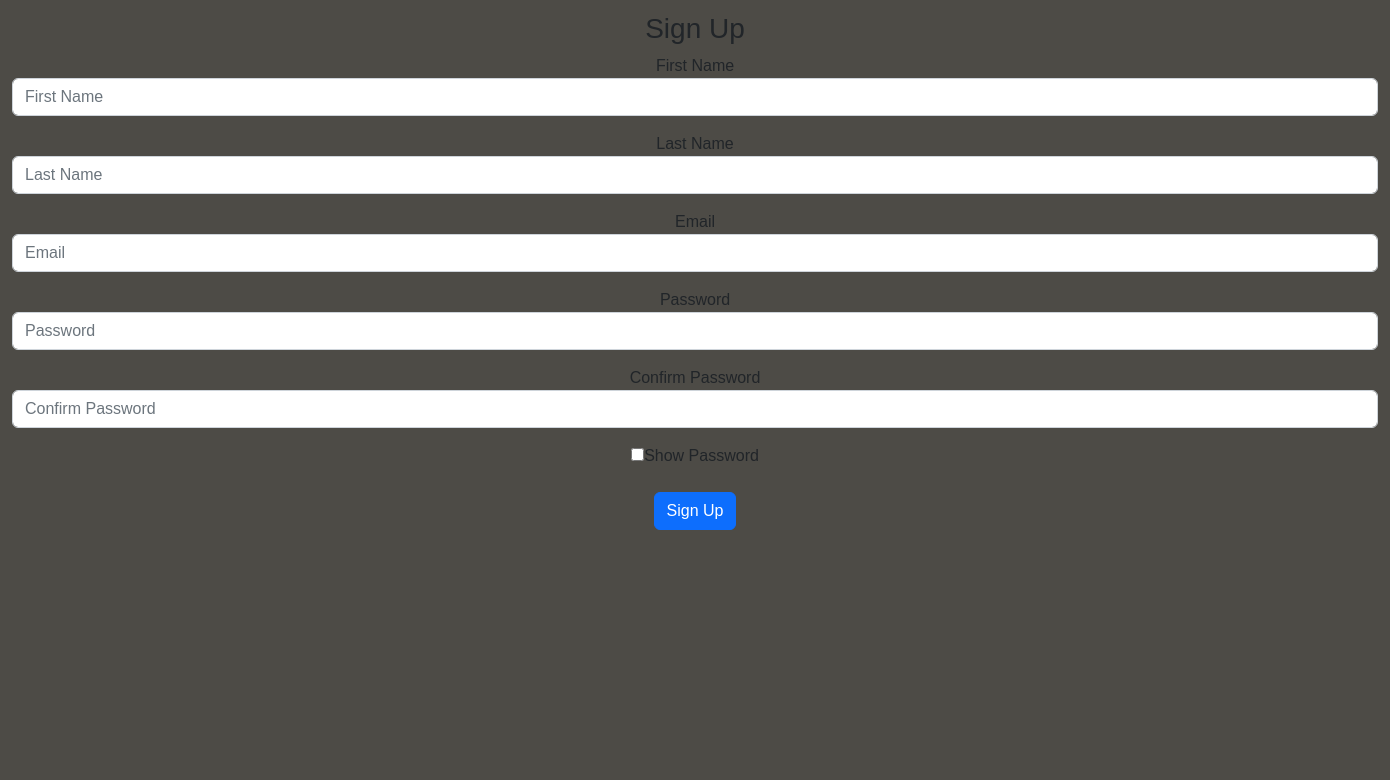
Test: RegisterCom.vue › shows an error message when a required field is empty
Step 1. Type "testName" into the field with placeholder "Last Name" → x=695, y=175, box [12,156,1378,194]
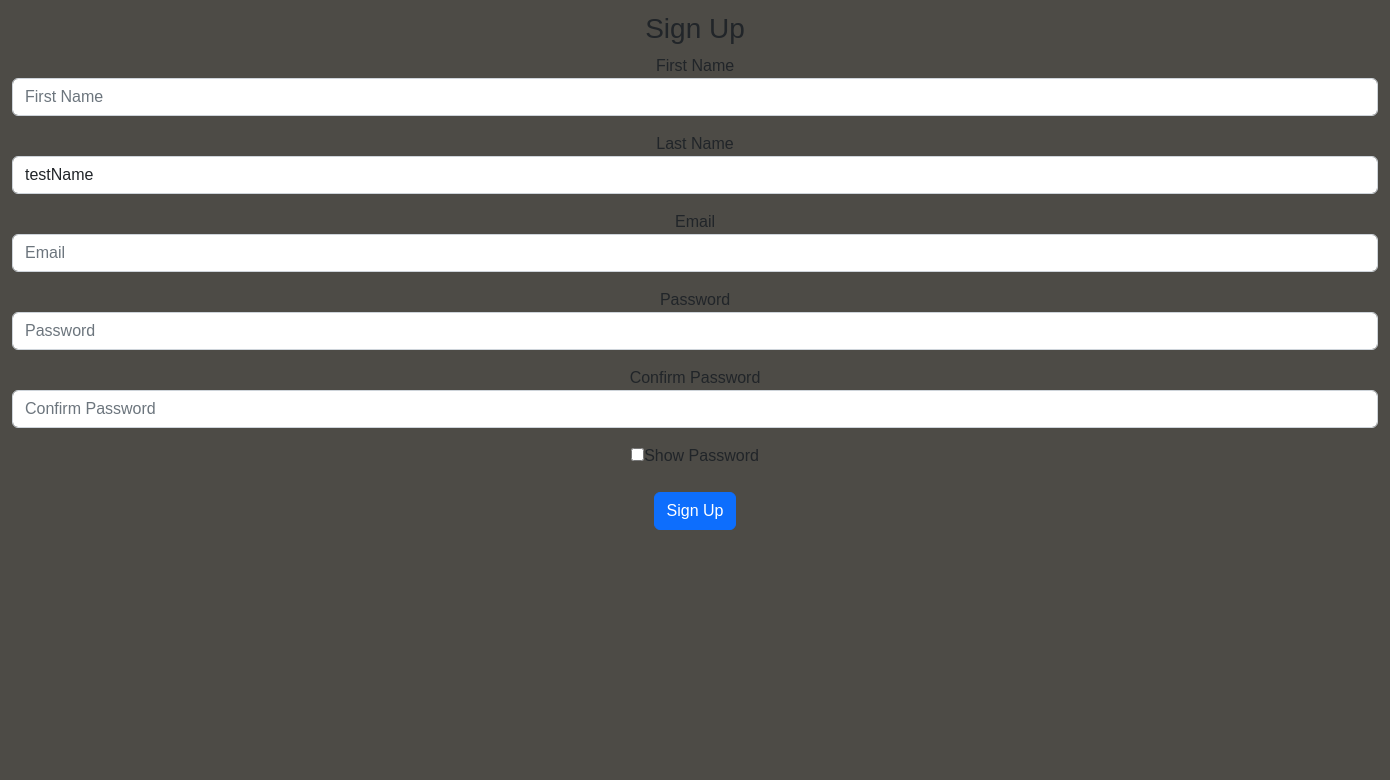
Step 2. Type "test@gmail.com" into the field with placeholder "Email" → x=695, y=253, box [12,234,1378,272]
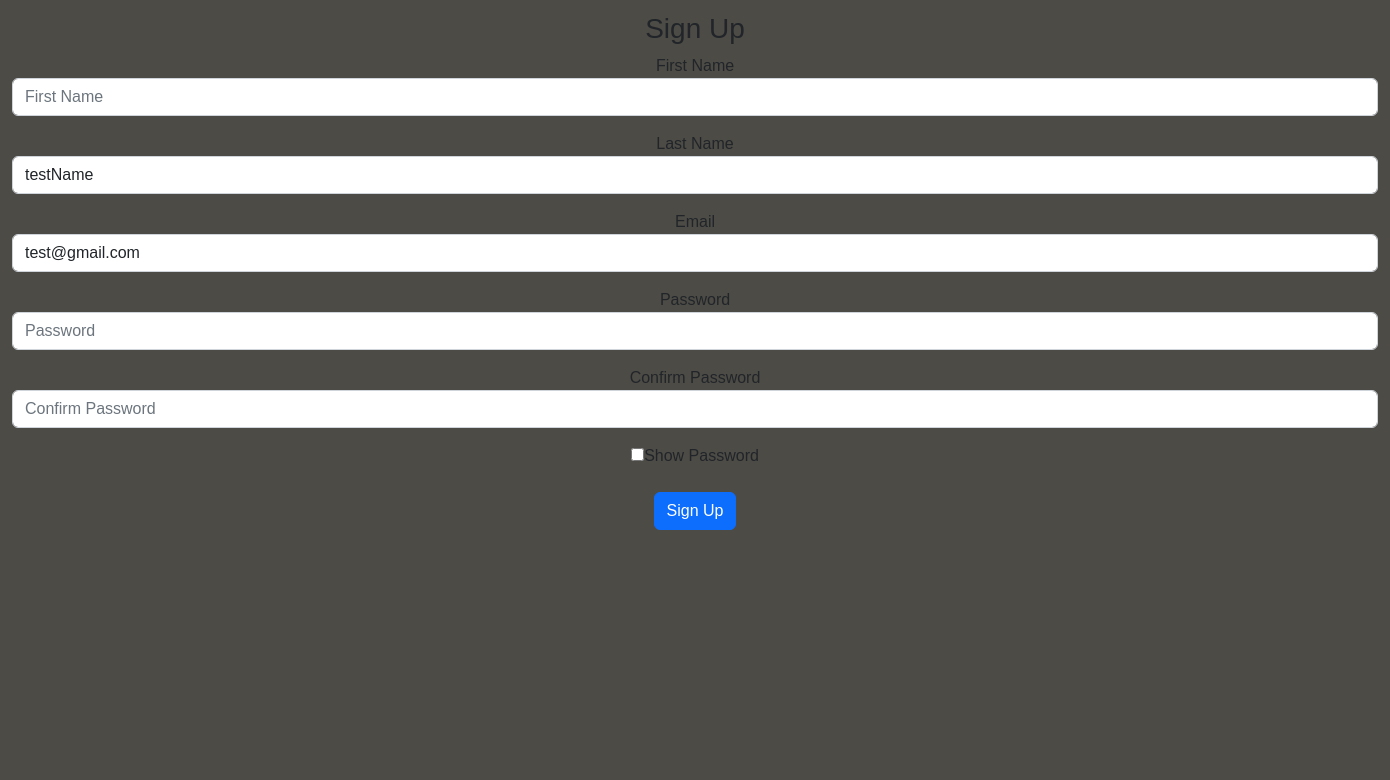
Step 3. Type "testPass@1" into the password field with placeholder "Password" → x=695, y=331, box [12,312,1378,350]
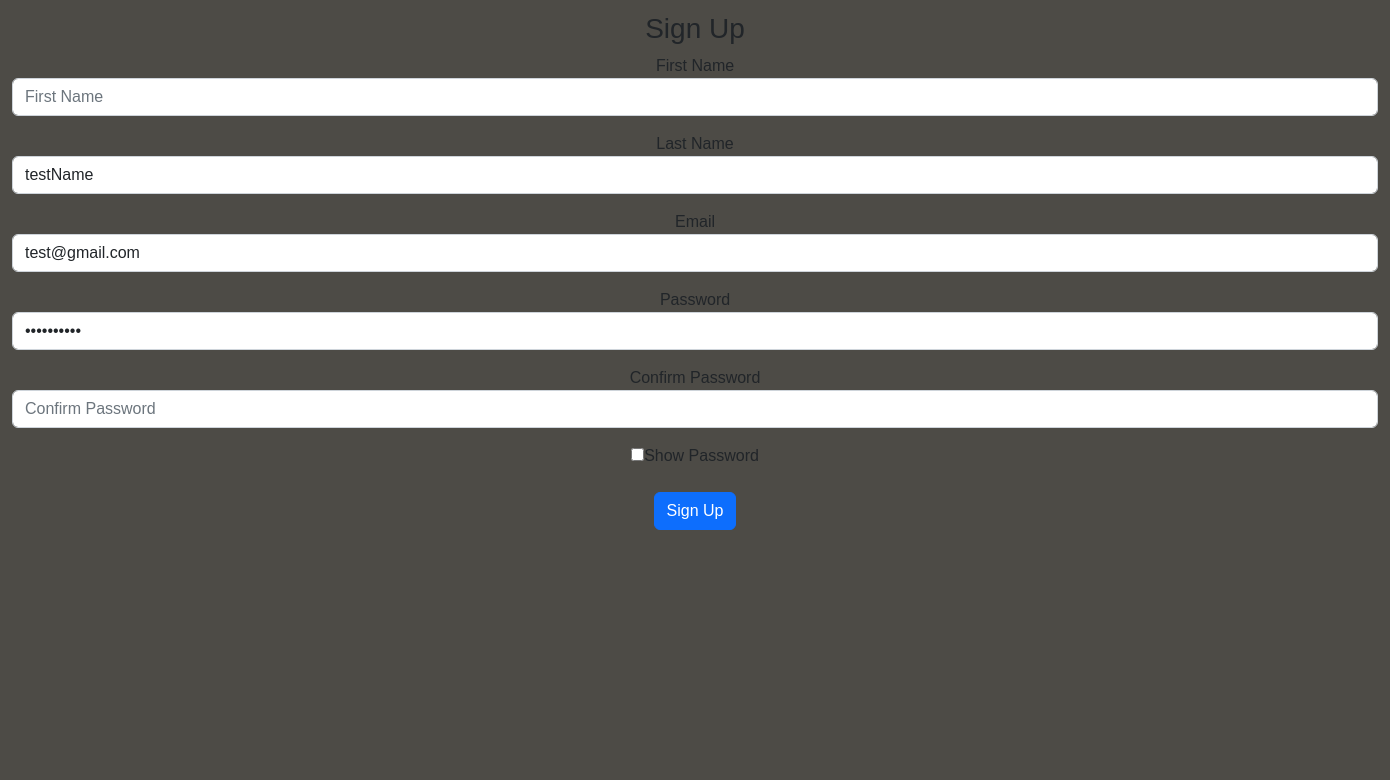
Step 4. Type "testPass@1" into the password field with placeholder "Confirm Password" → x=695, y=409, box [12,390,1378,428]
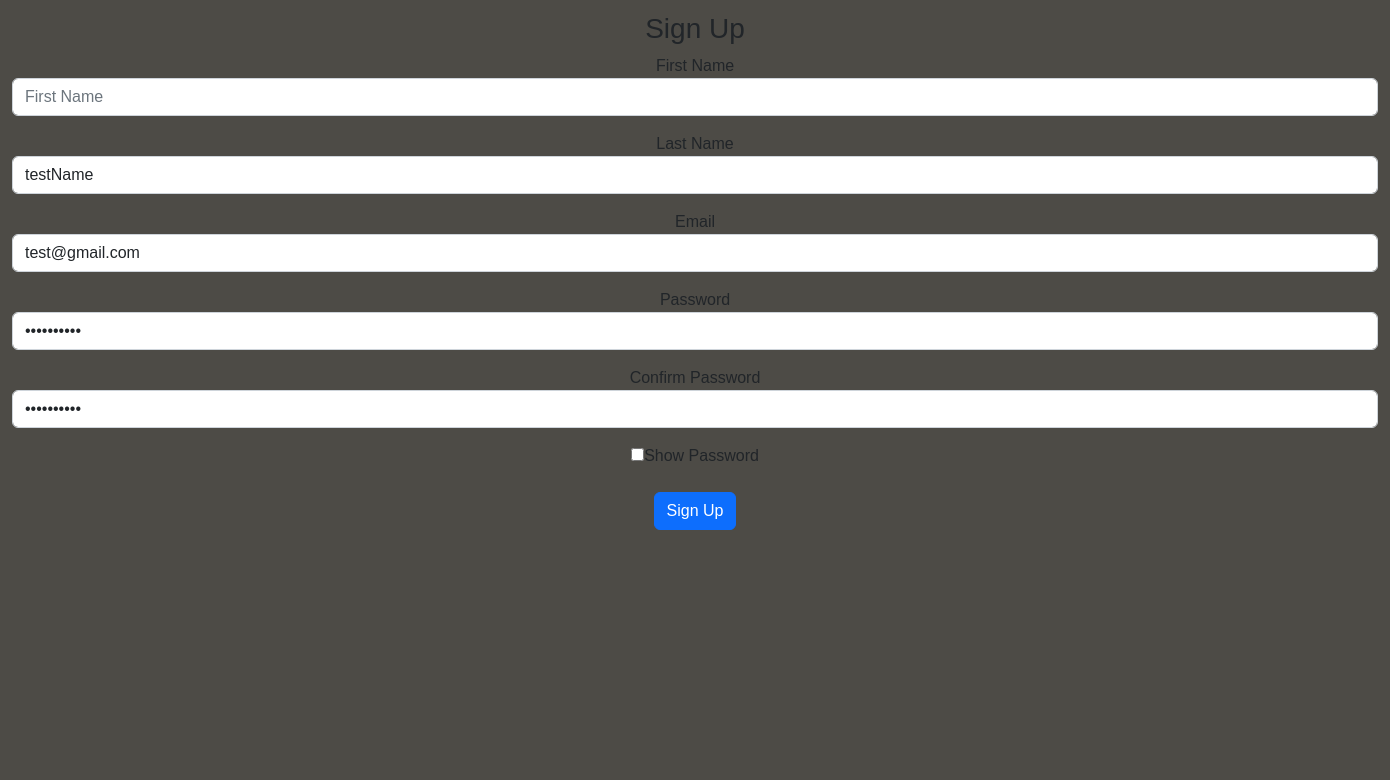
Step 5. Submit the form, box [12,54,1378,530]
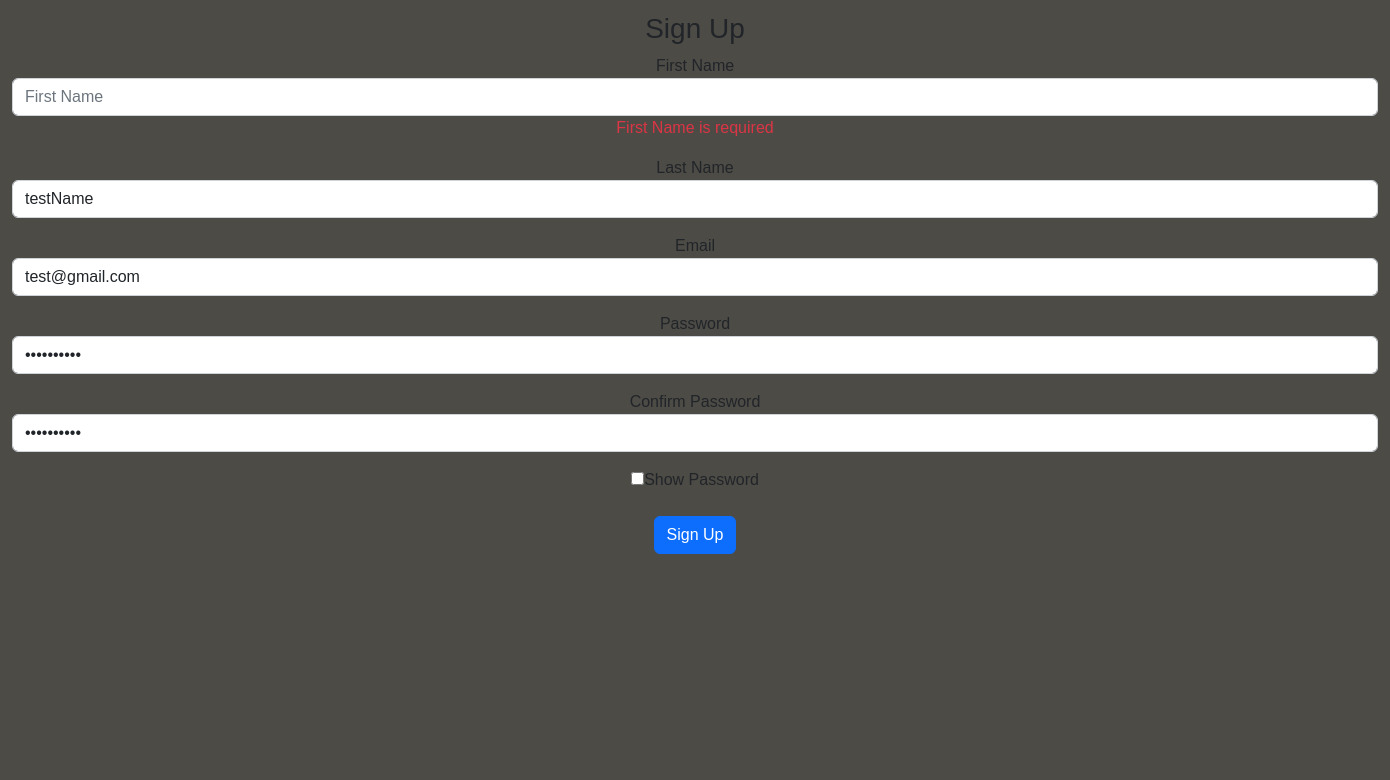
Expected: the text "First Name is required" is shown, [616,119,774,136]
